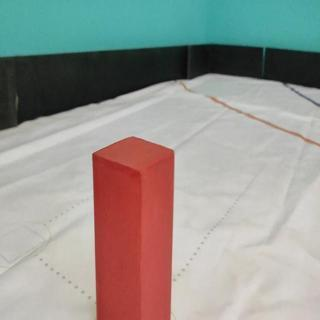redbox: (91, 133, 175, 320)
